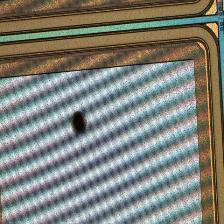PARTICLE: (66, 110, 94, 138)
